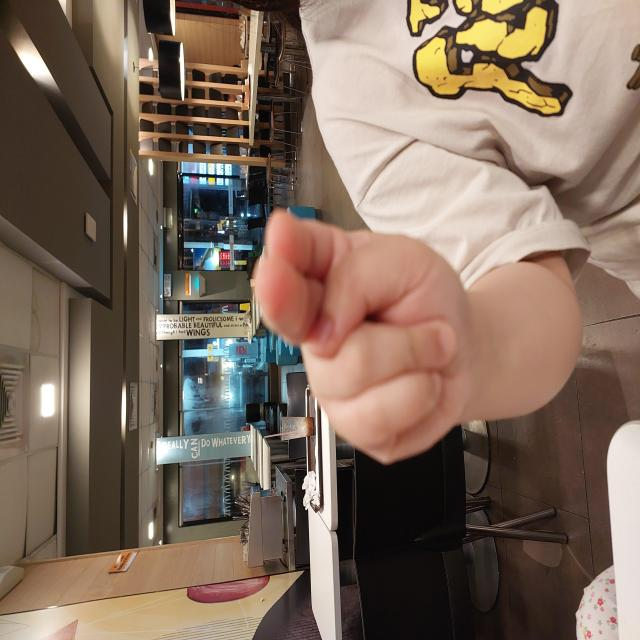N: (173, 252, 435, 473)
